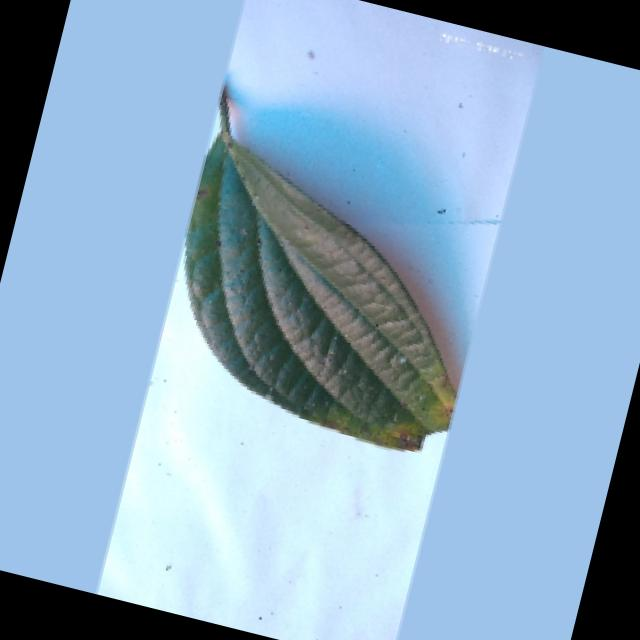slow-decline: (136, 87, 516, 473)
